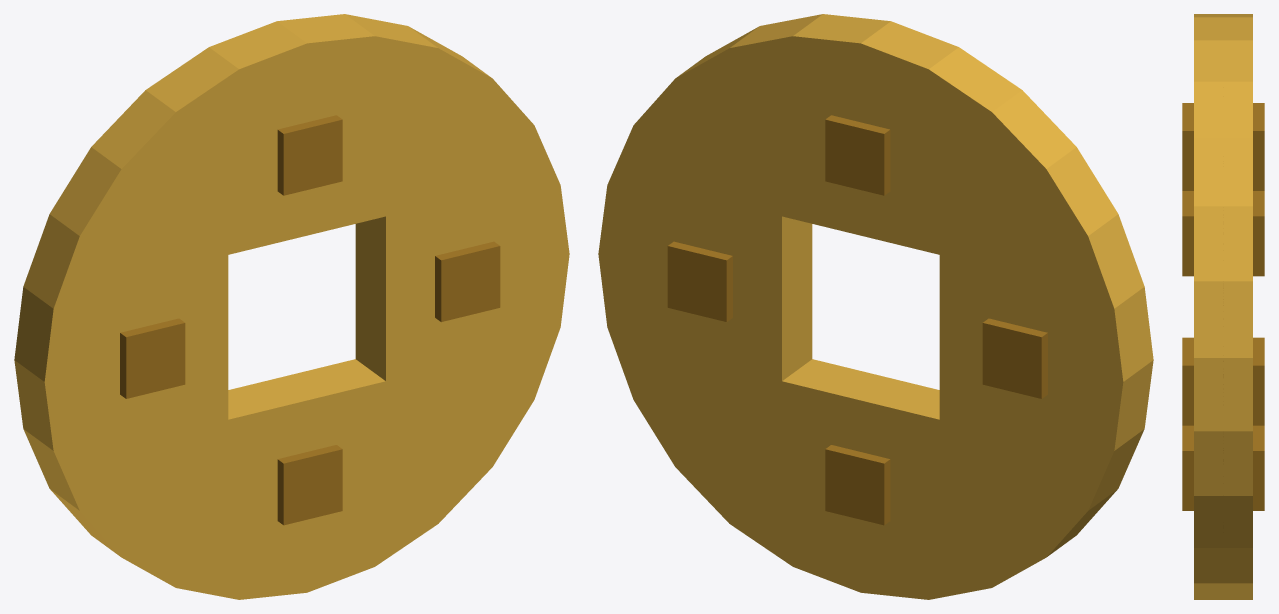
Rendered from kepeng.glb.
3 views of the same model, side by side, from view 1: azimuth 30°, elevation 25°; view 2: azimuth 150°, elevation 25°; view 3: azimuth 270°, elevation 25° (orthographic). The views are drawn at different scales.
Visible parts, largest first — view 1: kepeng_mesh; view 2: kepeng_mesh; view 3: kepeng_mesh.
Boxes of the visible parts, x1,y1,x2,y2 form: kepeng_mesh: (14, 14, 569, 599); kepeng_mesh: (598, 14, 1153, 599); kepeng_mesh: (1182, 14, 1264, 599).
Size of the model in its own units: 0.4 by 0.4 by 0.056.
